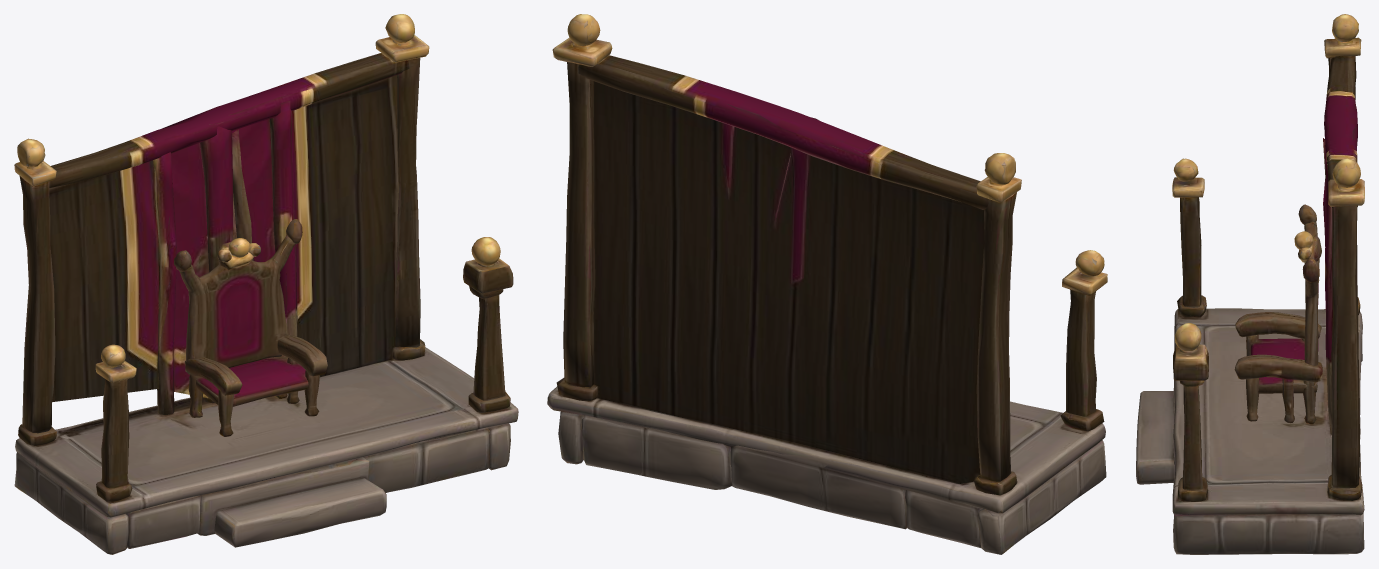
Rendered from sd_trono.glb.
3 views of the same model, side by side, from view 1: azimuth 30°, elevation 25°; view 2: azimuth 150°, elevation 25°; view 3: azimuth 270°, elevation 25° (orthographic). The views are drawn at different scales.
Parts seen in each view (by area): view 1: Mesh_0; view 2: Mesh_0; view 3: Mesh_0.
Boxes of the visible parts, x1=… form: Mesh_0: x1=14, y1=14, x2=518, y2=554; Mesh_0: x1=547, y1=14, x2=1107, y2=554; Mesh_0: x1=1136, y1=14, x2=1364, y2=554.
Size of the model in its own units: 0.4478 by 0.4131 by 0.2204.
1 material, 1 textured.
